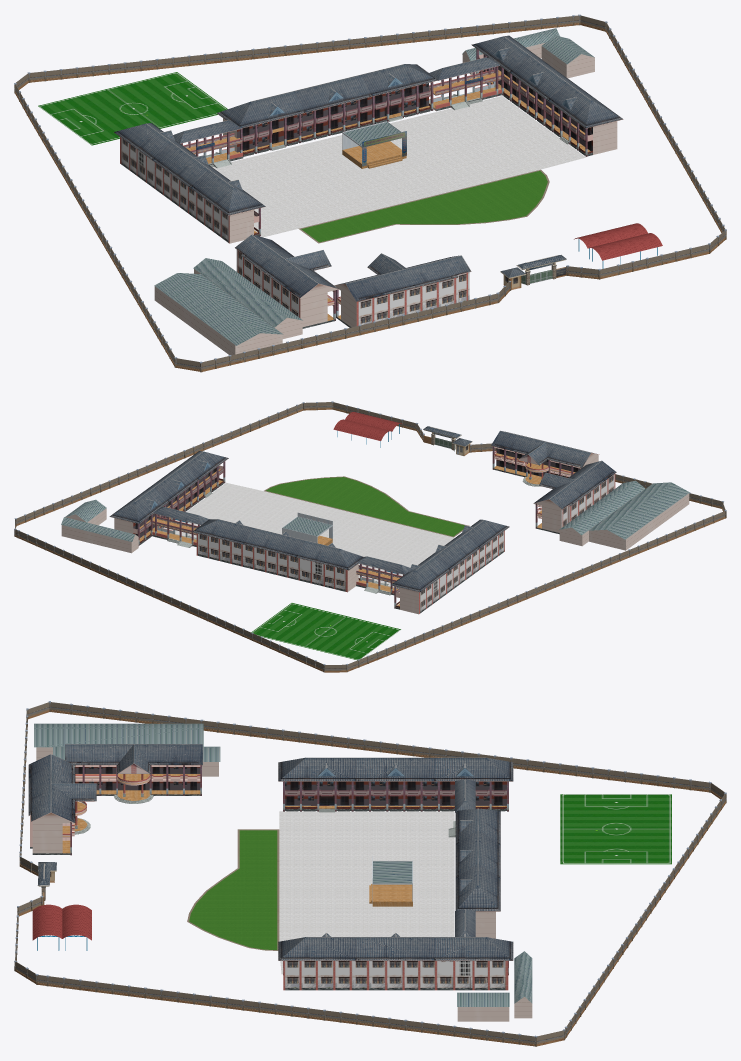
Rendered from Truong Tieu Hoc Tan Dong.glb.
3 views of the same model, one above another, from view 1: azimuth 30°, elevation 25°; view 2: azimuth 150°, elevation 25°; view 3: azimuth 270°, elevation 25° (orthographic). The views are drawn at different scales.
Visible parts, largest first — view 1: BPH048_Truong Tieu Hoc Tan Dong, Nen_San_Truong, BPH048_Truong Tieu Hoc Tan Dong Cong, BPH048_Truong Tieu Hoc Tan Dong.002, BPH048_Truong Tieu Hoc Tan Dong.001, SVD, BPH048_Truong Tieu Hoc Tan Dong.004, BPH048_Truong Tieu Hoc Tan Dong.003; view 2: BPH048_Truong Tieu Hoc Tan Dong, Nen_San_Truong, BPH048_Truong Tieu Hoc Tan Dong Cong, BPH048_Truong Tieu Hoc Tan Dong.002, BPH048_Truong Tieu Hoc Tan Dong.001, SVD, BPH048_Truong Tieu Hoc Tan Dong.004, BPH048_Truong Tieu Hoc Tan Dong.003; view 3: BPH048_Truong Tieu Hoc Tan Dong, Nen_San_Truong, BPH048_Truong Tieu Hoc Tan Dong Cong, BPH048_Truong Tieu Hoc Tan Dong.002, SVD, BPH048_Truong Tieu Hoc Tan Dong.001, BPH048_Truong Tieu Hoc Tan Dong.004, BPH048_Truong Tieu Hoc Tan Dong.003.
Boxes of the visible parts, box(x1,y1,x2,y2) form: BPH048_Truong Tieu Hoc Tan Dong: box(114, 35, 623, 243); Nen_San_Truong: box(212, 96, 585, 243); BPH048_Truong Tieu Hoc Tan Dong Cong: box(14, 14, 726, 372); BPH048_Truong Tieu Hoc Tan Dong.002: box(235, 234, 471, 328); BPH048_Truong Tieu Hoc Tan Dong.001: box(154, 258, 302, 355); SVD: box(38, 72, 227, 145); BPH048_Truong Tieu Hoc Tan Dong.004: box(462, 28, 594, 78); BPH048_Truong Tieu Hoc Tan Dong.003: box(574, 223, 662, 268); BPH048_Truong Tieu Hoc Tan Dong: box(109, 451, 509, 614); Nen_San_Truong: box(164, 476, 469, 587); BPH048_Truong Tieu Hoc Tan Dong Cong: box(14, 401, 726, 672); BPH048_Truong Tieu Hoc Tan Dong.002: box(491, 430, 616, 534); BPH048_Truong Tieu Hoc Tan Dong.001: box(559, 480, 689, 550); SVD: box(251, 603, 400, 660); BPH048_Truong Tieu Hoc Tan Dong.004: box(61, 499, 138, 553); BPH048_Truong Tieu Hoc Tan Dong.003: box(333, 411, 402, 447); BPH048_Truong Tieu Hoc Tan Dong: box(278, 757, 513, 990); Nen_San_Truong: box(187, 811, 454, 974); BPH048_Truong Tieu Hoc Tan Dong Cong: box(14, 701, 726, 1046); BPH048_Truong Tieu Hoc Tan Dong.002: box(28, 744, 202, 855); SVD: box(560, 794, 671, 864); BPH048_Truong Tieu Hoc Tan Dong.001: box(34, 723, 220, 776); BPH048_Truong Tieu Hoc Tan Dong.004: box(457, 951, 532, 1021); BPH048_Truong Tieu Hoc Tan Dong.003: box(32, 904, 91, 950).
Bounding box in the file's own units: 171 × 10.9 × 153.
4 materials, 4 textured.
